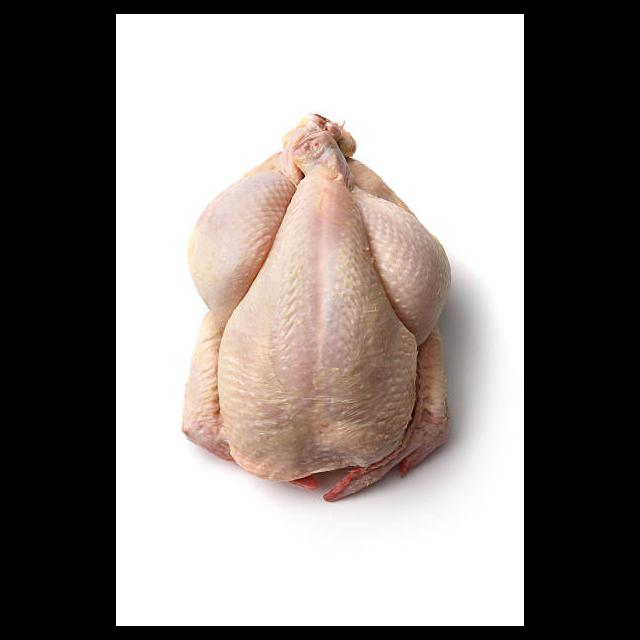chicken: (192, 118, 451, 489)
